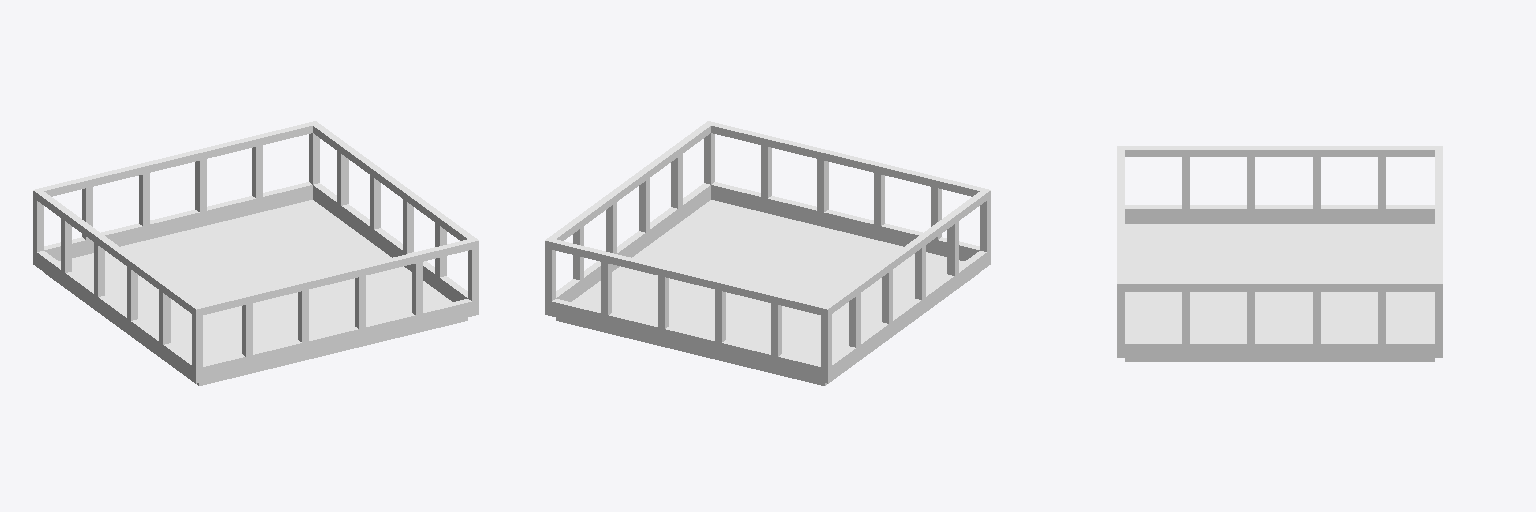
The model's file is Balcony.obj.
3 views of the same model, side by side, from view 1: azimuth 30°, elevation 25°; view 2: azimuth 150°, elevation 25°; view 3: azimuth 270°, elevation 25° (orthographic).
Parts seen in each view (by area): view 1: object 1; view 2: object 1; view 3: object 1.
Part boxes in pixels (left/top/right/bottom): object 1: left=33, top=121, right=478, bottom=385; object 1: left=545, top=121, right=990, bottom=385; object 1: left=1117, top=146, right=1442, bottom=361.
Size of the model in its own units: 4 by 1.1 by 4.